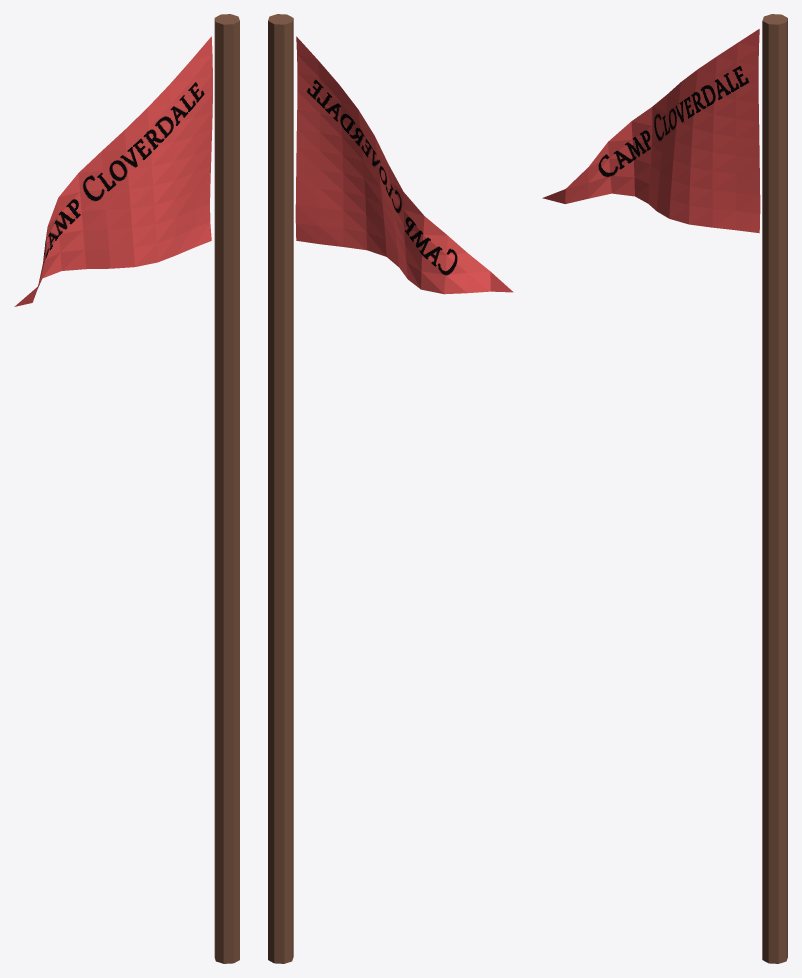
File: flag.fbx
3 renders of one model, left to right at view 1: azimuth 30°, elevation 25°; view 2: azimuth 150°, elevation 25°; view 3: azimuth 330°, elevation 25°, orthographic.
Parts seen in each view (by area): view 1: pole, flag; view 2: pole, flag; view 3: pole, flag.
Part boxes in pixels (bbox=[...]): pole: bbox=[214, 14, 239, 963]; flag: bbox=[14, 36, 212, 306]; pole: bbox=[268, 14, 293, 963]; flag: bbox=[295, 36, 513, 294]; pole: bbox=[762, 14, 787, 963]; flag: bbox=[542, 29, 760, 233].
Bounding box in the file's own units: 200 × 765 × 34.69.
2 materials, 1 textured.
